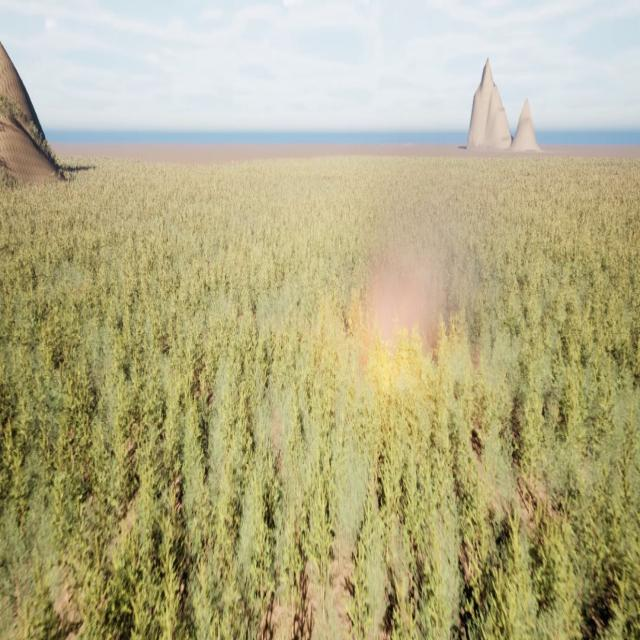smoke: (362, 235, 451, 353)
